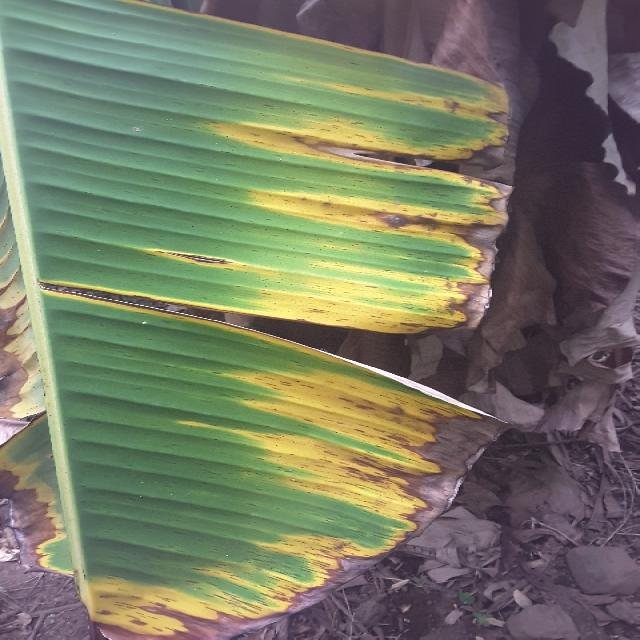Bract_mosaic_virus: (511, 0, 640, 453)
Cordana: (0, 12, 485, 640)
